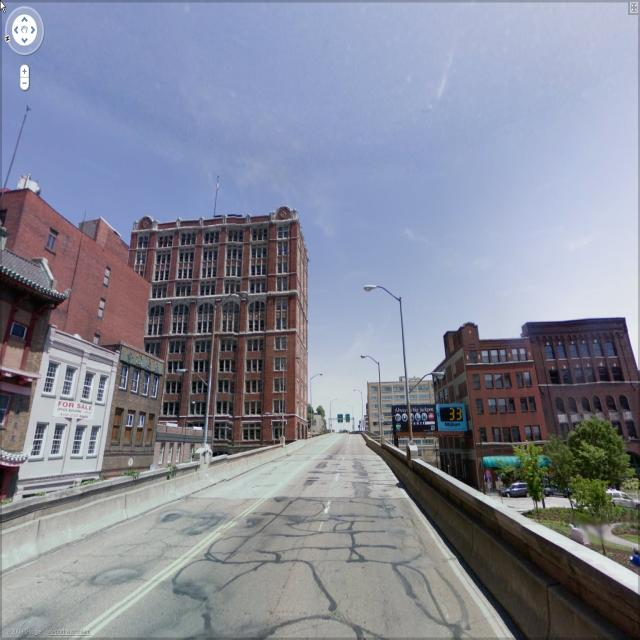b_1: (164, 200, 324, 478), (434, 327, 551, 487), (530, 299, 638, 437), (31, 335, 115, 497), (0, 250, 54, 501), (367, 372, 445, 477), (108, 355, 166, 490)
